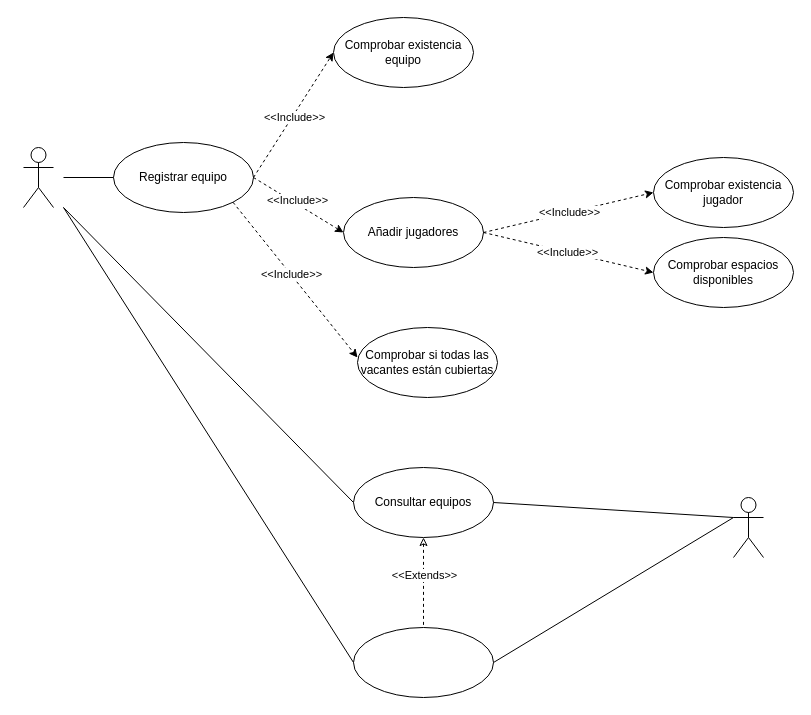
This 811x715 diagram has some shape labels left out. The shapes that lost their labels are listed below. From the top down, each one's box as (x1, y1, x2, y2) in pixels, then its label:
(22, 146, 54, 208): Jugador
(732, 496, 764, 558): Actor
(352, 626, 494, 698): Consultar jugadores
